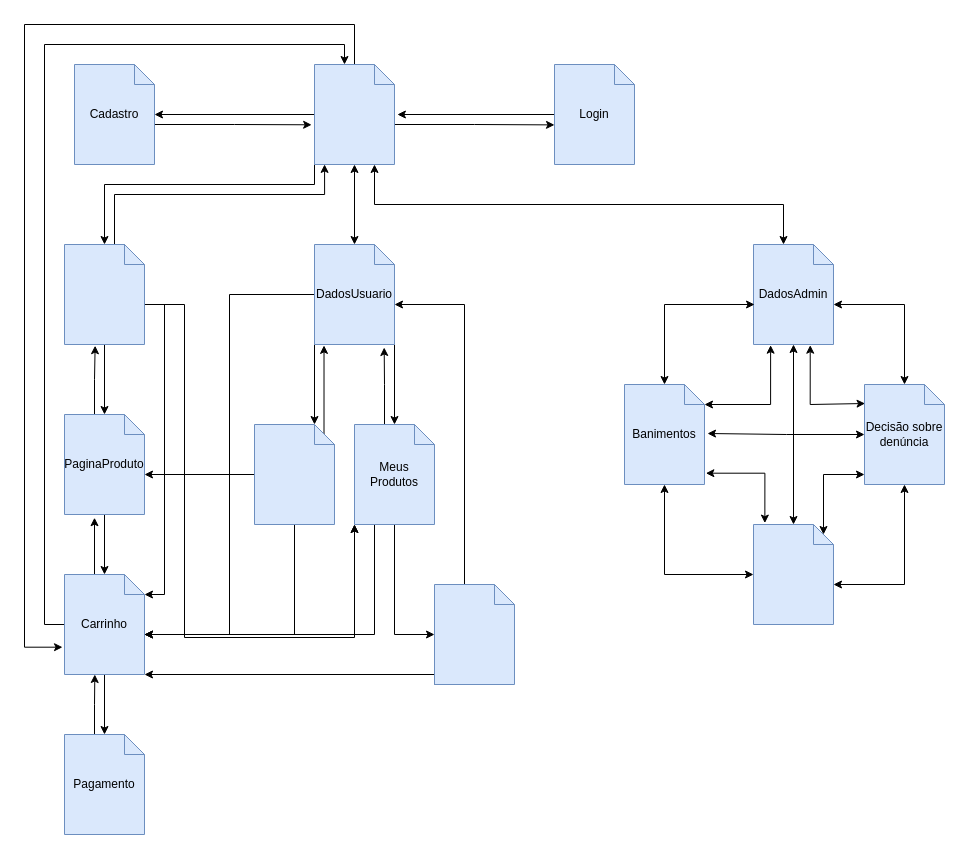
This 962x852 diagram has some shape labels left out. The box of each missing label's shape, as (x1, y1, x2, y2) in pixels:
Adicionar ou Editar Produto: (434, 584, 514, 684)
Busca: (64, 244, 144, 344)
Denúncias: (752, 524, 834, 624)
Histórico de Compras: (254, 424, 334, 524)
TelaInicial: (314, 64, 394, 164)
